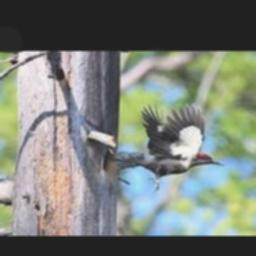Woodpecker: (111, 103, 226, 192)
